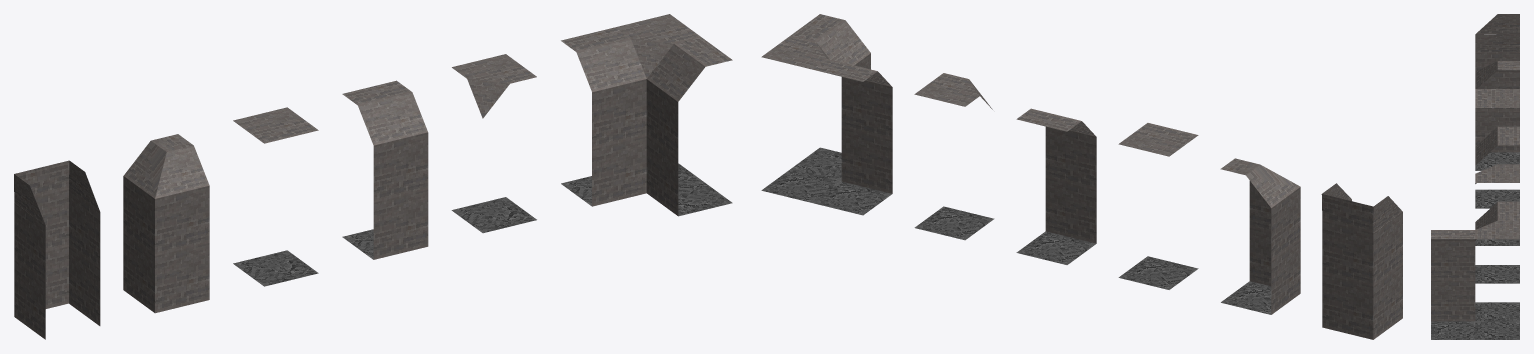
Rendered from DungeonTileSet_02.glb.
3 views of the same model, side by side, from view 1: azimuth 30°, elevation 25°; view 2: azimuth 150°, elevation 25°; view 3: azimuth 270°, elevation 25° (orthographic). The views are drawn at different scales.
Parts seen in each view (by area): view 1: Full-Corner-col, Corner-in-col, InsideWall-convcol, Wall-col, Corner-out-col, floor-col; view 2: Full-Corner-col, InsideWall-convcol, Wall-col, Corner-in-col, floor-col, Corner-out-col; view 3: Full-Corner-col, Corner-in-col, InsideWall-convcol, Corner-out-col, floor-col, Wall-col.
Part boxes in pixels (box(x1,y1,x2,y2)): Full-Corner-col: box(561, 14, 732, 216); Corner-in-col: box(123, 134, 209, 313); InsideWall-convcol: box(14, 160, 100, 339); Wall-col: box(342, 80, 428, 259); Corner-out-col: box(451, 54, 536, 233); floor-col: box(233, 107, 318, 286); Full-Corner-col: box(761, 14, 892, 215); InsideWall-convcol: box(1321, 183, 1402, 339); Wall-col: box(1016, 108, 1096, 264); Corner-in-col: box(1220, 158, 1300, 314); floor-col: box(1118, 123, 1198, 289); Corner-out-col: box(914, 73, 994, 240); Full-Corner-col: box(1431, 201, 1519, 339); Corner-in-col: box(1475, 61, 1519, 170); InsideWall-convcol: box(1475, 14, 1519, 71); Corner-out-col: box(1475, 164, 1519, 283); floor-col: box(1475, 89, 1519, 208); Wall-col: box(1475, 126, 1519, 245).
Size of the model in its own units: 12 by 2.5 by 2.
Materials: 1 (1 with a texture image).
